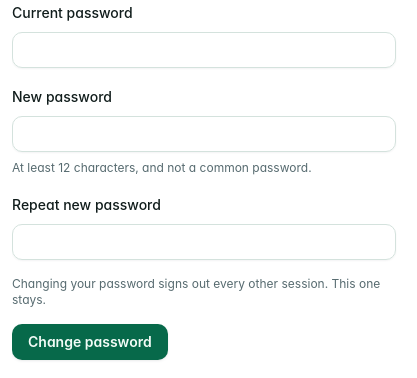
pre-validation › blocks an 11-character password without touching the network
Type "old passphrase here" into the password field labelled "Current password" at [204, 50], box [12, 32, 396, 68]
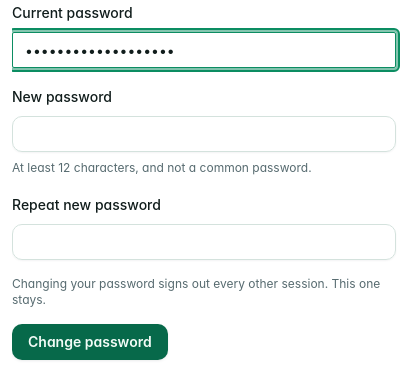
Type "elevenchars" into the password field labelled "New password" at [204, 134], box [12, 116, 396, 152]
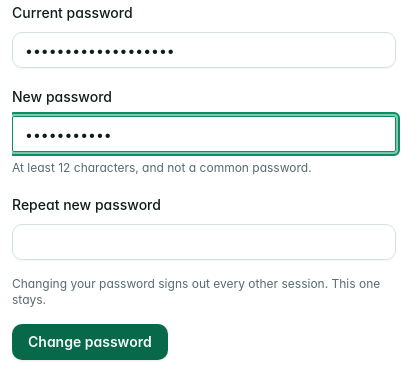
Type "elevenchars" into the password field labelled "Repeat new password" at [204, 242], box [12, 224, 396, 260]
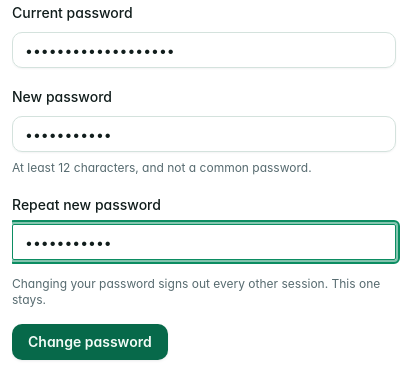
Click the button "Change password" at [90, 342], box [12, 324, 168, 360]
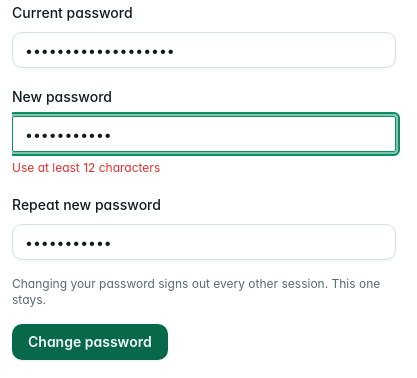
Check: the text "Use at least 12 characters" is shown, box [12, 160, 160, 175]
